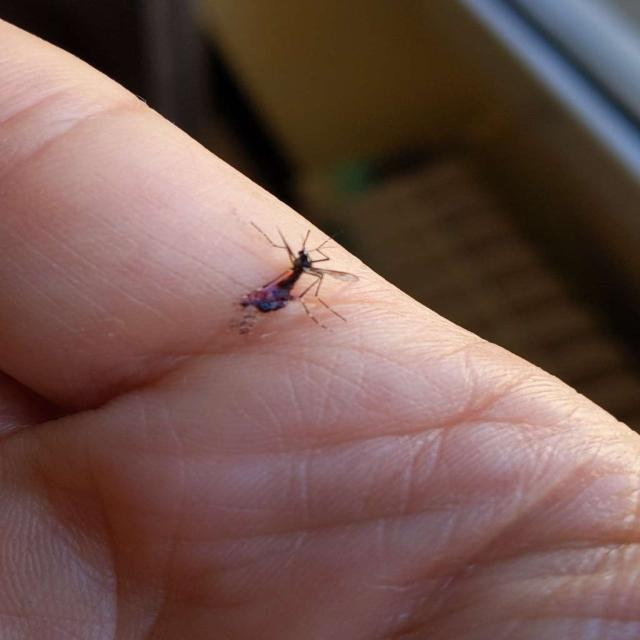albopictus: (226, 214, 356, 334)
